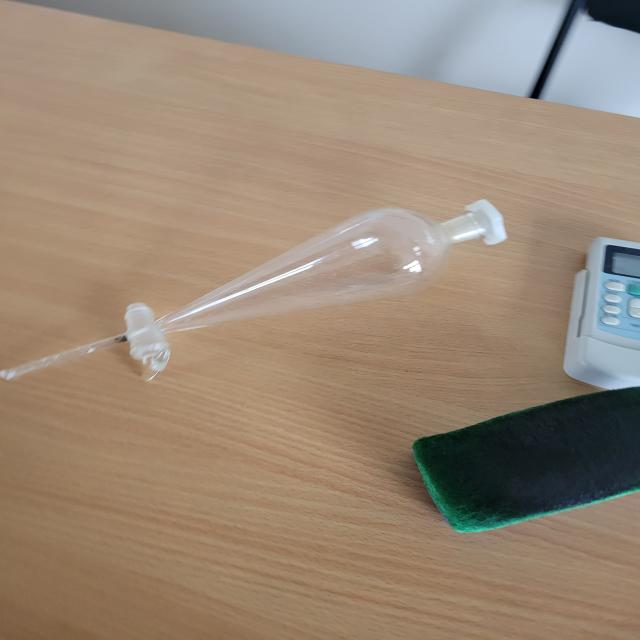Separating_Funnel: (5, 184, 532, 399)
